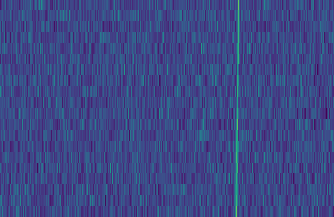signal: (232, 0, 244, 217)
